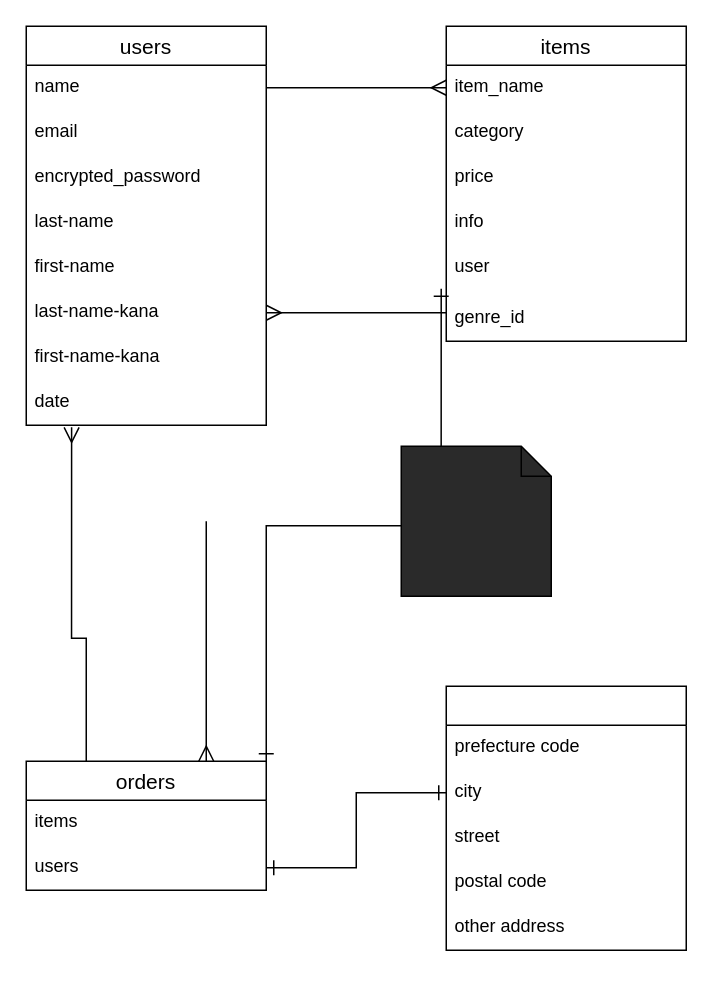
The diagram is 713 pixels wide and 981 high, and some of its shapes have lost their labels. Each missing label, with the box of its shape:
addresses: (445, 685, 686, 950)
Note: (400, 445, 551, 596)
